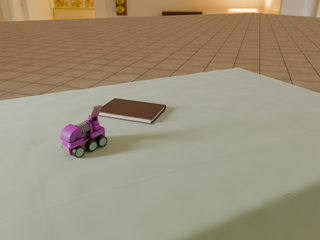book: (98, 98, 166, 124)
toy_car: (60, 105, 107, 158)
